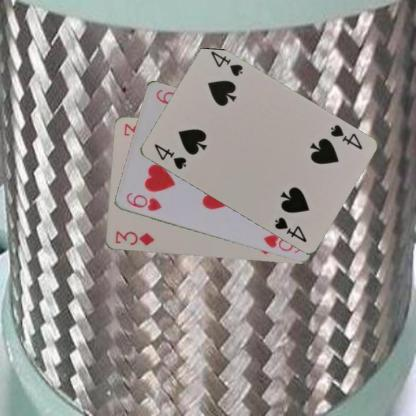3d: (113, 228, 155, 247)
4s: (151, 141, 188, 171), (327, 122, 363, 151)
6h: (123, 190, 163, 213)
